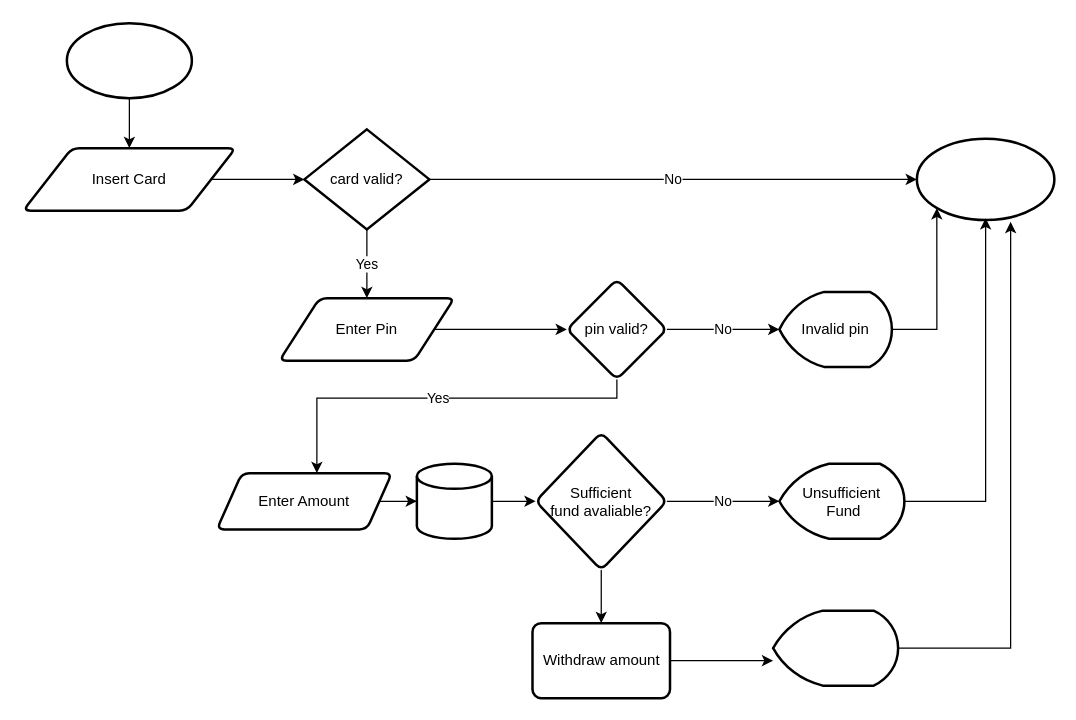
Image size: 1076x720. Some labels were removed from this diagram. Each missing label, with the box of its shape:
Get Data: (415, 462, 492, 539)
Start: (65, 21, 192, 99)
Stop: (915, 137, 1055, 221)
Withdraw Successful: (771, 609, 899, 686)
